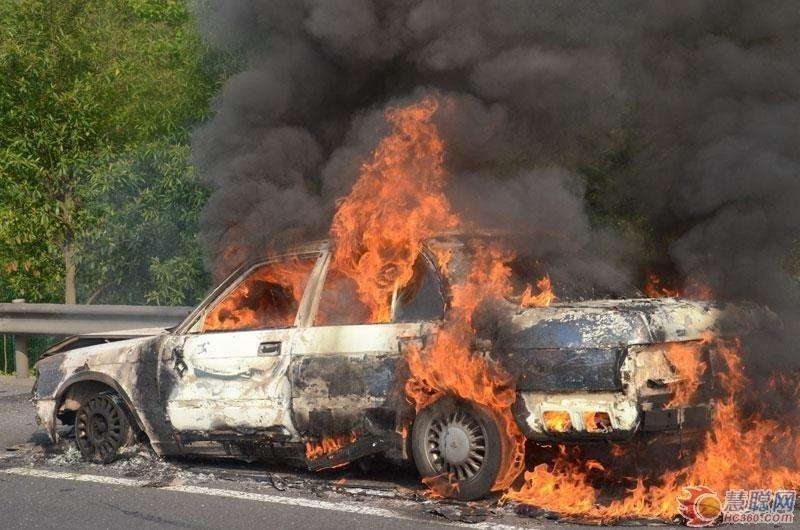fire: (371, 181, 799, 527), (205, 91, 554, 340), (300, 428, 357, 467)
